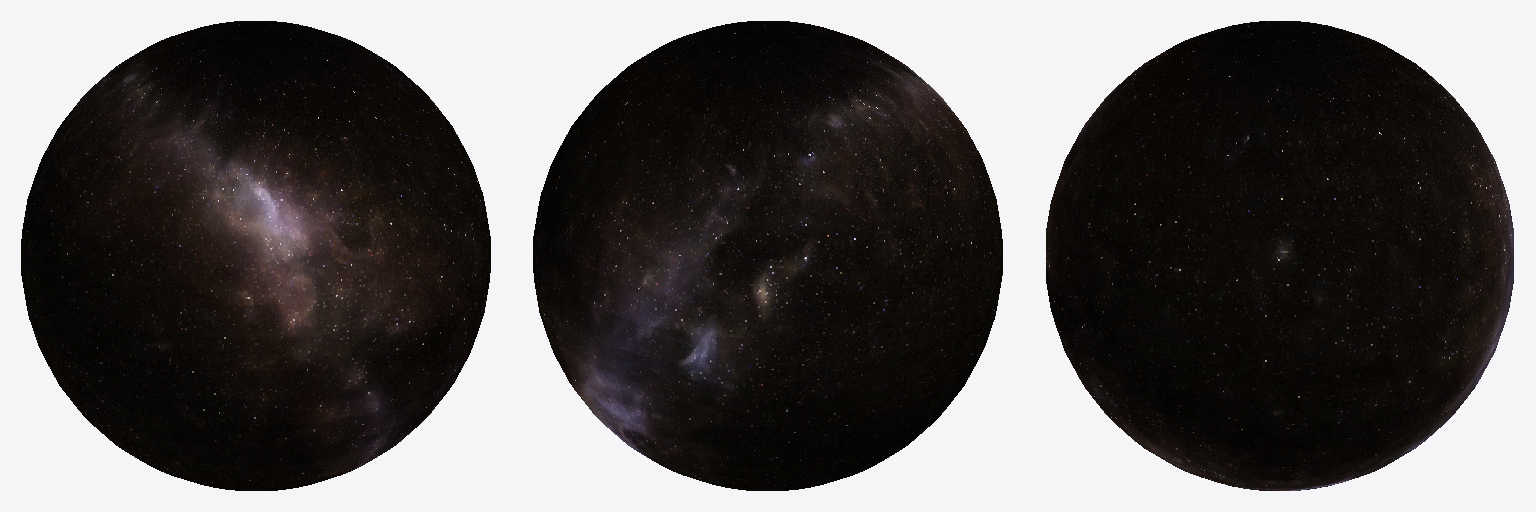
The picture shows the model from 3 angles: view 1: azimuth 30°, elevation 25°; view 2: azimuth 150°, elevation 25°; view 3: azimuth 270°, elevation 25°; orthographic projection.
Visible parts, largest first — view 1: PanoSphere_Mesh; view 2: PanoSphere_Mesh; view 3: PanoSphere_Mesh.
Boxes of the visible parts, box(x1,y1,x2,y2) form: PanoSphere_Mesh: box(21, 21, 490, 490); PanoSphere_Mesh: box(533, 21, 1002, 490); PanoSphere_Mesh: box(1046, 21, 1513, 490).
Bounding box in the file's own units: 9.97 × 10 × 9.95.
1 materials, 1 textured.